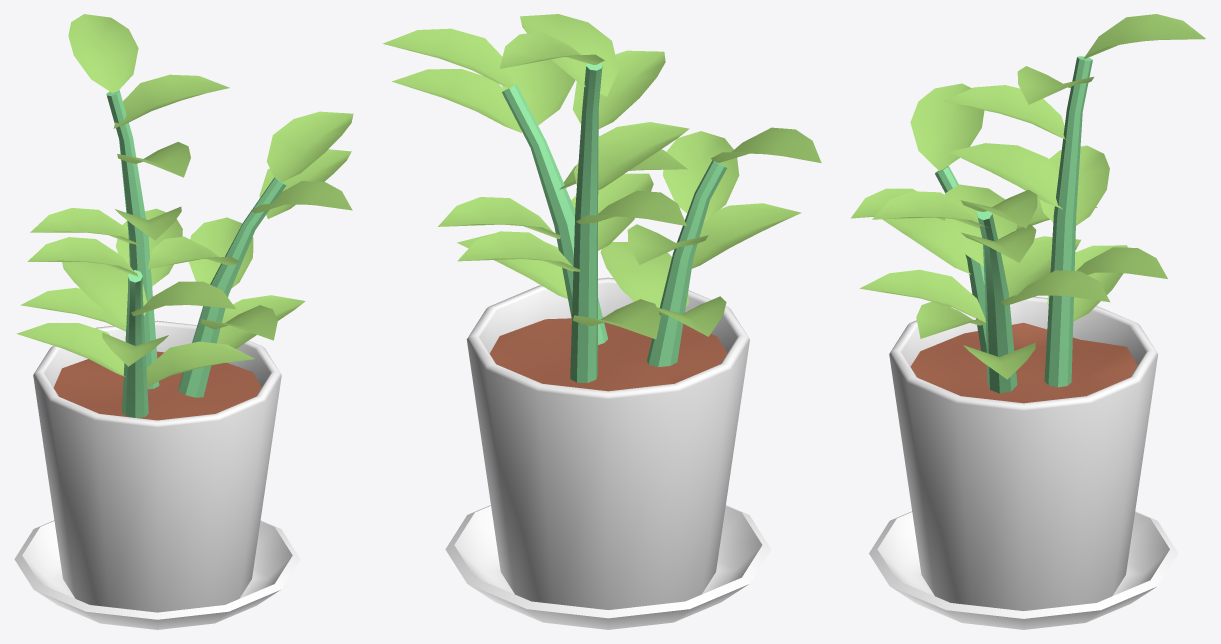
Rendered from SM_PlantPot.FBX.
The picture shows the model from 3 angles, left to right: view 1: azimuth 30°, elevation 25°; view 2: azimuth 150°, elevation 25°; view 3: azimuth 270°, elevation 25°; orthographic projection. The views are drawn at different scales.
Visible parts, largest first — view 1: PlantPot; view 2: PlantPot; view 3: PlantPot.
Part boxes in pixels (x1,y1,x2,y2): PlantPot: [14, 14, 353, 629]; PlantPot: [383, 14, 821, 629]; PlantPot: [850, 14, 1205, 629].
Size of the model in its own units: 103 by 140 by 82.13.
Materials: 1 (1 with a texture image).
